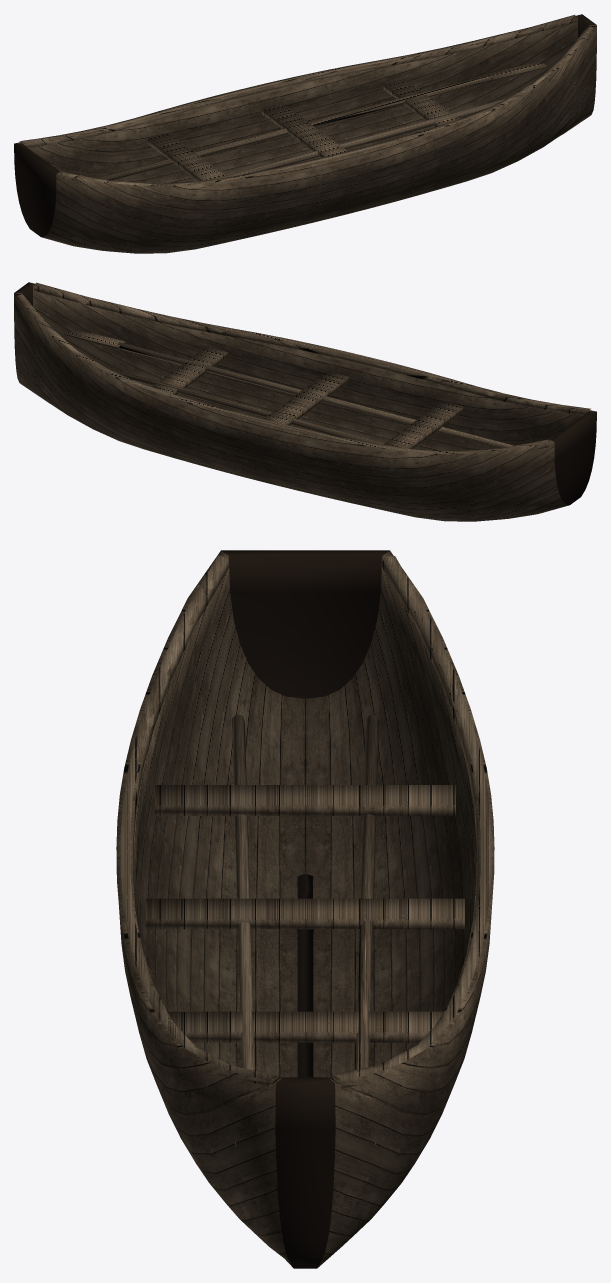
The model's file is boat_small.glb.
3 views of the same model, one above another, from view 1: azimuth 30°, elevation 25°; view 2: azimuth 150°, elevation 25°; view 3: azimuth 270°, elevation 25° (orthographic). The views are drawn at different scales.
Parts seen in each view (by area): view 1: boat_small; view 2: boat_small; view 3: boat_small.
Boxes of the visible parts, x1,y1,x2,y2 form: boat_small: (14,14,596,253); boat_small: (14,282,596,521); boat_small: (116,550,494,1268).
Size of the model in its own units: 5.74 by 1.18 by 1.69.
Materials: 1 (1 with a texture image).
